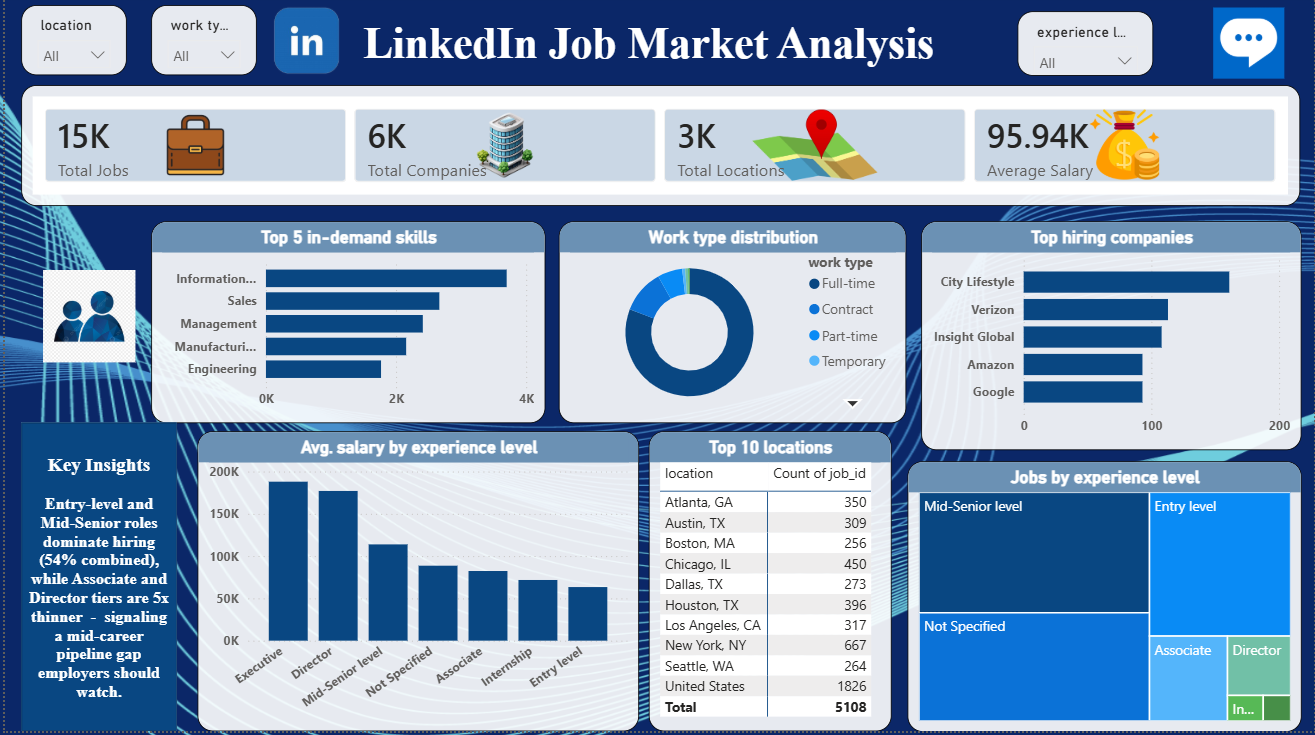

The dashboard page shown, as its layout file describes it:
{"tool":"powerbi","page":{"name":"Page 1","canvas":[1280,720],"ordinal":0},"visuals":[{"type":"cardVisual","fields":{"Data":["Bridge_JobSkills.Total Jobs","Bridge_JobSkills.Total Companies","Bridge_JobSkills.Total Locations","Bridge_JobSkills.Average Salary"]},"box":[16.5,87.8,1251.5,118],"z":0},{"type":"clusteredBarChart","title":"Top 5 in-demand skills","fields":{"Category":["Dim_Skills.skill_name"],"Y":["CountNonNull(Bridge_JobSkills.job_id)"]},"box":[142.7,220.9,385.6,197.6],"z":1000},{"type":"donutChart","title":"Work type distribution","fields":{"Category":["Fact_JobPostings.formatted_work_type"],"Y":["Bridge_JobSkills.Total Jobs"]},"box":[542,220.9,340.3,197.6],"z":2000},{"type":"treemap","title":"Jobs by experience level","fields":{"Group":["Fact_JobPostings.formatted_experience_level"],"Values":["Bridge_JobSkills.Total Jobs"]},"box":[882.3,455.6,385.6,264.8],"z":3000},{"type":"clusteredBarChart","title":"Top hiring companies","fields":{"Category":["Dim_Company.company_name"],"Y":["Bridge_JobSkills.Total Jobs"]},"box":[896.1,220.9,371.9,223.7],"z":4000},{"type":"columnChart","title":"Avg. salary by experience level","fields":{"Y":["Bridge_JobSkills.Average Salary"],"Category":["Fact_JobPostings.formatted_experience_level"]},"box":[188,426.8,432.2,293.7],"z":5000},{"type":"pivotTable","title":"Top 10 locations","fields":{"Rows":["Dim_Location.location"],"Values":["CountNonNull(Bridge_JobSkills.job_id)"]},"box":[629.8,426.8,237.4,293.7],"z":6000},{"type":"textbox","box":[226.4,0,806.9,105.7],"z":7000},{"type":"image","box":[212.7,9.6,163.3,68.6],"z":8000},{"type":"shape","box":[16.5,418.5,152.3,301.9],"z":9000},{"type":"textbox","box":[16.5,426.8,152.3,293.7],"z":10000},{"type":"image","box":[22,269,120.8,90.6],"z":11000},{"type":"image","box":[1152.7,12.3,127.6,70],"z":12000},{"type":"slicer","fields":{"Values":["Dim_Location.location"]},"box":[16.5,9.6,102.9,68.6],"z":13000},{"type":"slicer","fields":{"Values":["Fact_JobPostings.formatted_work_type"]},"box":[142.7,9.6,102.9,68.6],"z":14000},{"type":"slicer","fields":{"Values":["Fact_JobPostings.formatted_experience_level"]},"box":[990.7,16.5,133.1,63.1],"z":15000}]}

Visuals, with their boxes in screenshot pixels (x1, y1, x2, y2), scaled from the page's 1280x720 canvas onto the 1315x735 screenshot:
cardVisual - Bridge_JobSkills.Total Jobs x Bridge_JobSkills.Total Companies: select_region(17, 90, 1303, 210)
"Top 5 in-demand skills" clusteredBarChart: select_region(147, 226, 543, 427)
"Work type distribution" donutChart: select_region(557, 226, 906, 427)
"Jobs by experience level" treemap: select_region(906, 465, 1303, 734)
"Top hiring companies" clusteredBarChart: select_region(921, 226, 1303, 454)
"Avg. salary by experience level" columnChart: select_region(193, 436, 637, 734)
"Top 10 locations" pivotTable: select_region(647, 436, 891, 734)
textbox: select_region(233, 0, 1062, 108)
image: select_region(219, 10, 386, 80)
shape: select_region(17, 427, 173, 734)
textbox: select_region(17, 436, 173, 734)
image: select_region(23, 275, 147, 367)
image: select_region(1184, 13, 1314, 84)
slicer - Dim_Location.location: select_region(17, 10, 123, 80)
slicer - Fact_JobPostings.formatted_work_type: select_region(147, 10, 252, 80)
slicer - Fact_JobPostings.formatted_experience_level: select_region(1018, 17, 1155, 81)
